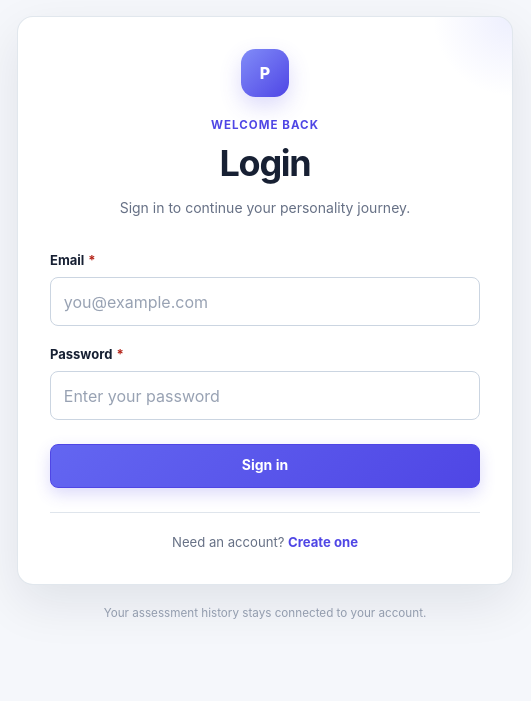
Test case: LoginPage › shows an invalid credentials error without navigating
The width and height of the screenshot is (531, 701).
Step 1. Type "user@example.com" into the field labelled "Email" → (265, 302), box [50,277,480,326]
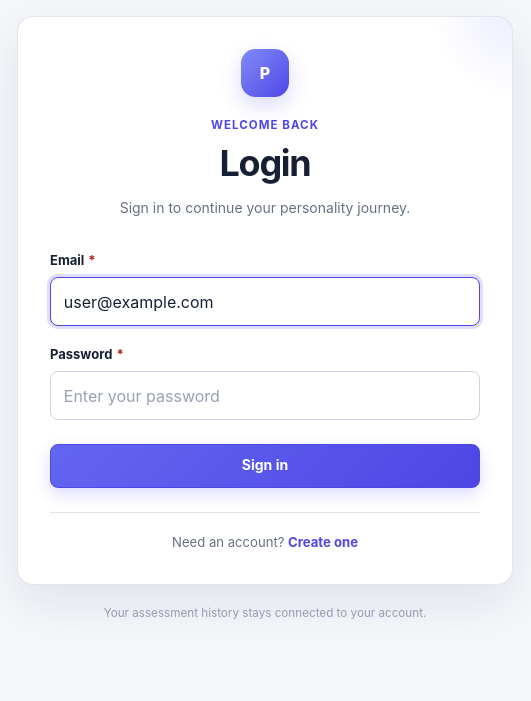
Step 2. Type "wrong-password" into the password field labelled "Password" → (265, 396), box [50,371,480,420]
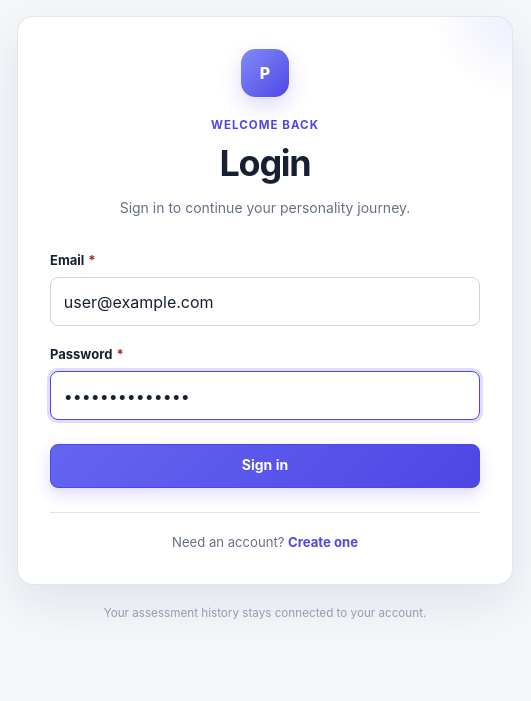
Step 3. Click the button "Sign in" → (265, 466), box [50,444,480,488]
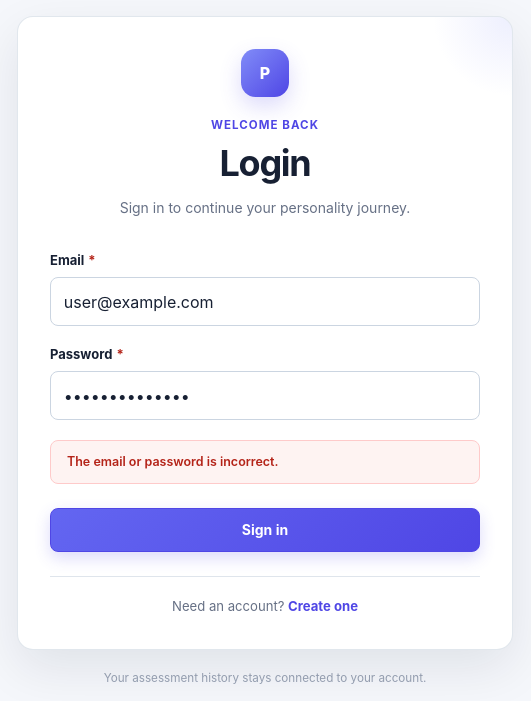
Expected: the text "The email or password is incorrect." is shown, [50,440,480,484]
